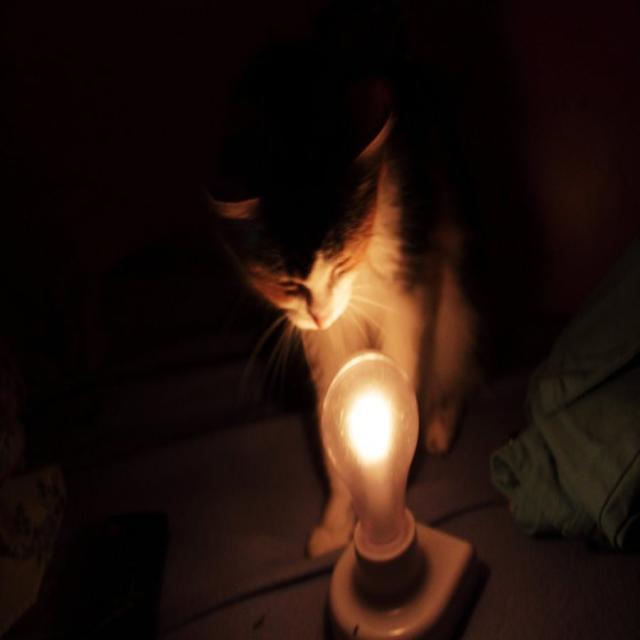Cat: (185, 6, 518, 548)
